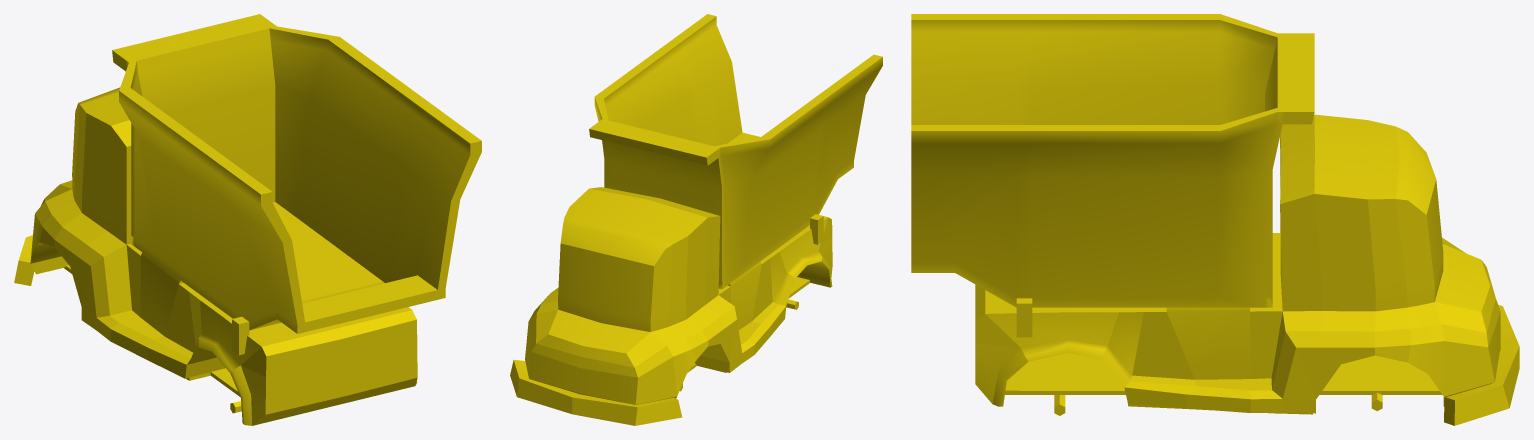
Rendered from P1_Car_Truck_03.fbx.
3 renders of one model, left to right at view 1: azimuth 30°, elevation 25°; view 2: azimuth 150°, elevation 25°; view 3: azimuth 270°, elevation 25°, orthographic. The views are drawn at different scales.
Visible parts, largest first — view 1: Car_Truck_03; view 2: Car_Truck_03; view 3: Car_Truck_03.
Part boxes in pixels (x1,y1,x2,y2): Car_Truck_03: (14,14,481,425); Car_Truck_03: (510,14,882,425); Car_Truck_03: (911,14,1519,425).
Bounding box in the file's own units: 25.41 × 30.62 × 55.74.
